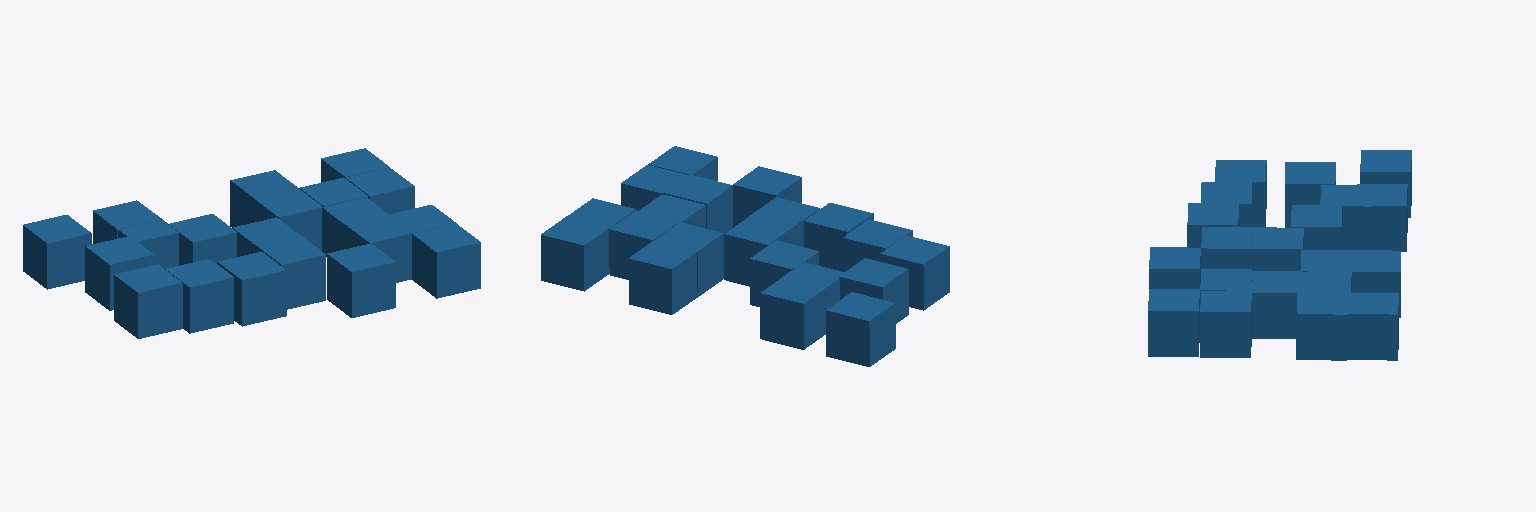
Rendered from tile_2.obj.
3 renders of one model, left to right at view 1: azimuth 30°, elevation 25°; view 2: azimuth 150°, elevation 25°; view 3: azimuth 270°, elevation 25°, orthographic.
Visible parts, largest first — view 1: Cube; view 2: Cube; view 3: Cube.
Boxes of the visible parts, x1=… form: Cube: x1=23, y1=148, x2=480, y2=338; Cube: x1=541, y1=146, x2=949, y2=366; Cube: x1=1148, y1=150, x2=1411, y2=360.
Size of the model in its own units: 15.29 by 2.09 by 10.38.